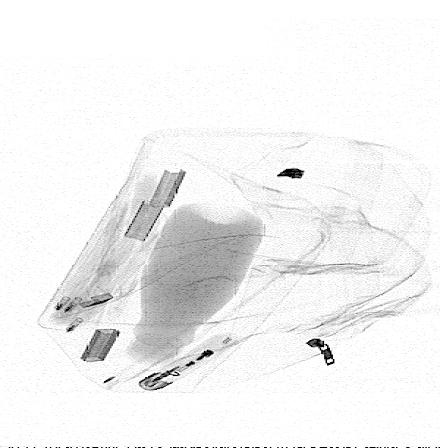Lighter: (138, 334, 240, 391)
